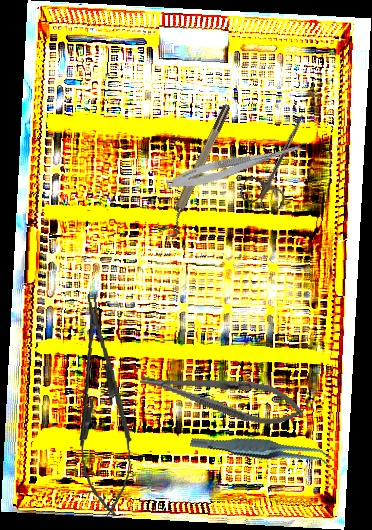Fixation Ring: (158, 102, 239, 241)
Iris Scissors: (237, 104, 321, 216)
Micro Scissor: (164, 132, 311, 196)
Needle Holder: (65, 291, 140, 519), (136, 358, 308, 433)
Tissue Forceps: (189, 408, 332, 492)
